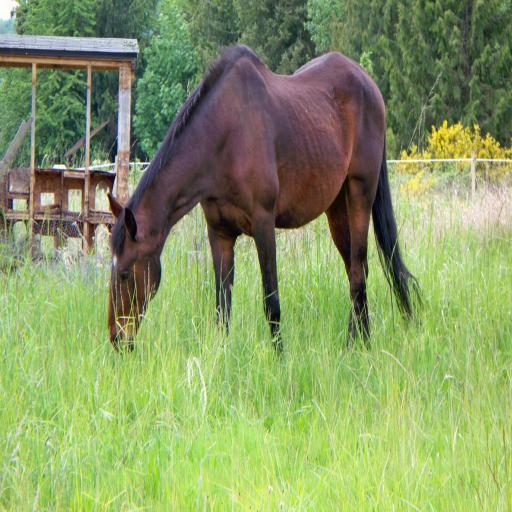horse: (106, 42, 430, 366)
